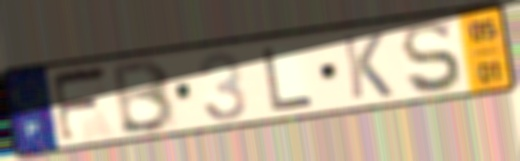3: (196, 49, 248, 123)
B: (111, 57, 180, 137)
F: (48, 62, 113, 147)
K: (338, 30, 396, 102)
L: (259, 44, 318, 113)
S: (399, 19, 466, 97)
